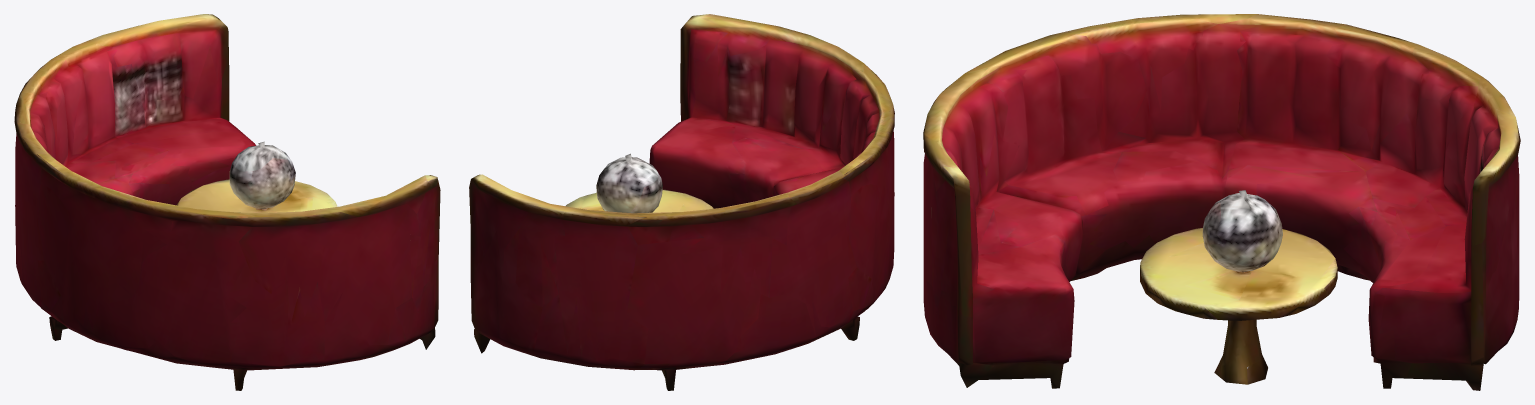
The model's file is velvet-banquette.glb.
3 renders of one model, left to right at view 1: azimuth 30°, elevation 25°; view 2: azimuth 150°, elevation 25°; view 3: azimuth 270°, elevation 25°, orthographic. The views are drawn at different scales.
Visible parts, largest first — view 1: tripo_node_aa94c237-19be-4323-a883-1ee2ba62f316; view 2: tripo_node_aa94c237-19be-4323-a883-1ee2ba62f316; view 3: tripo_node_aa94c237-19be-4323-a883-1ee2ba62f316.
Part boxes in pixels (bbox=[...]): tripo_node_aa94c237-19be-4323-a883-1ee2ba62f316: bbox=[14, 14, 440, 390]; tripo_node_aa94c237-19be-4323-a883-1ee2ba62f316: bbox=[469, 14, 894, 390]; tripo_node_aa94c237-19be-4323-a883-1ee2ba62f316: bbox=[923, 14, 1520, 390].
Size of the model in its own units: 0.6756 by 0.4324 by 1.
1 material, 1 textured.
